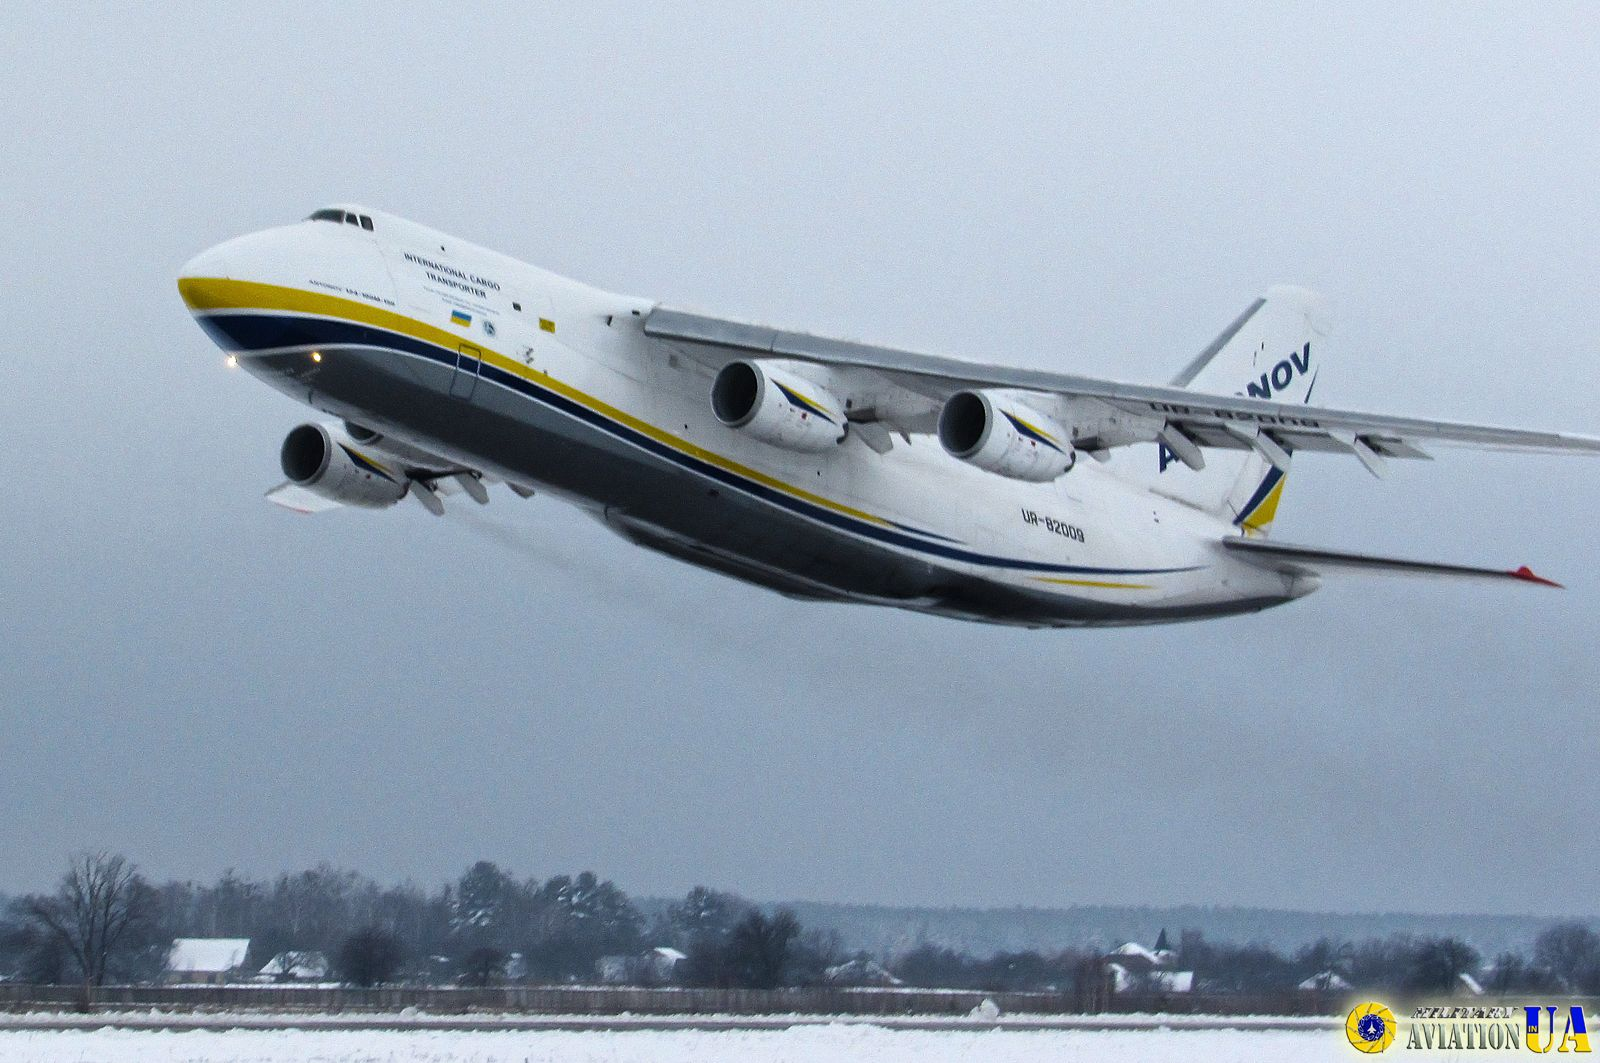Aeronef_commercial: (159, 171, 1600, 708)
